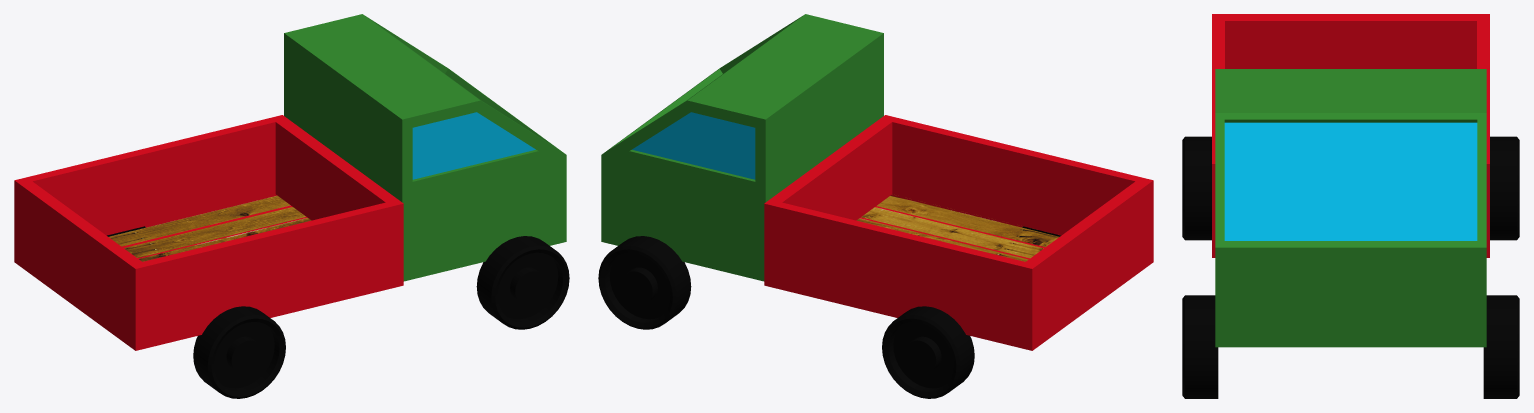
Rendered from truck.fbx.
3 views of the same model, side by side, from view 1: azimuth 30°, elevation 25°; view 2: azimuth 150°, elevation 25°; view 3: azimuth 270°, elevation 25° (orthographic). The views are drawn at different scales.
Visible parts, largest first — view 1: SM_Truck_Boot; view 2: SM_Truck_Boot; view 3: SM_Truck_Boot.
Part boxes in pixels (bbox=[...]): SM_Truck_Boot: bbox=[14, 14, 569, 398]; SM_Truck_Boot: bbox=[598, 14, 1153, 398]; SM_Truck_Boot: bbox=[1182, 14, 1519, 398].
Bounding box in the file's own units: 442 × 222 × 260.
5 materials, 1 textured.
